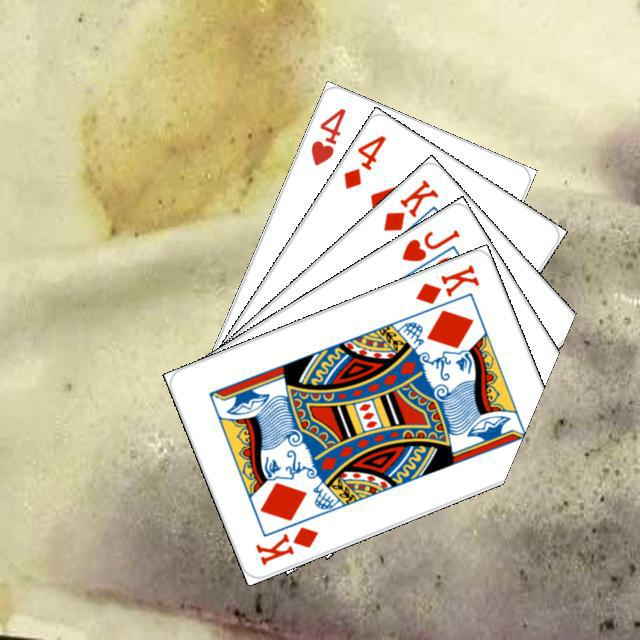4d: (338, 130, 388, 191)
4h: (305, 103, 348, 168)
Jh: (396, 224, 462, 264)
Kd: (378, 174, 441, 233), (410, 259, 482, 306), (250, 521, 320, 567)
